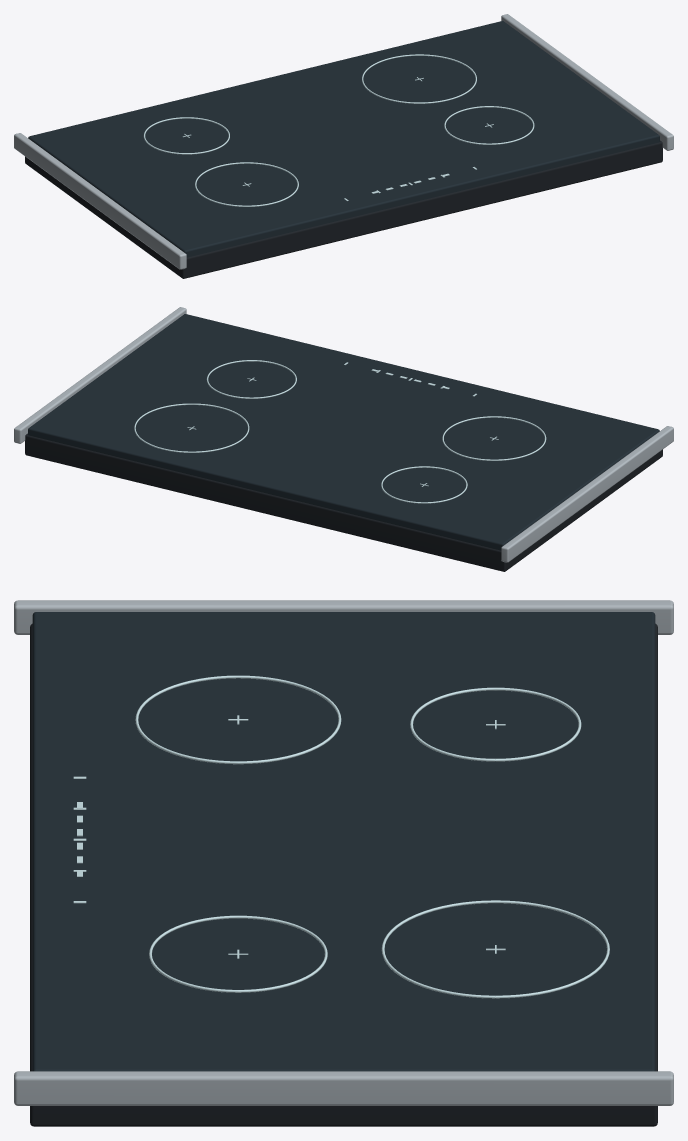
File: luxury-induction-cooktop-36.glb
3 views of the same model, one above another, from view 1: azimuth 30°, elevation 25°; view 2: azimuth 150°, elevation 25°; view 3: azimuth 270°, elevation 25° (orthographic). The views are drawn at different scales.
Parts seen in each view (by area): view 1: luxury-induction-cooktop-36; view 2: luxury-induction-cooktop-36; view 3: luxury-induction-cooktop-36.
Part boxes in pixels (x1,y1,x2,y2): luxury-induction-cooktop-36: (14, 14, 673, 278); luxury-induction-cooktop-36: (14, 307, 673, 571); luxury-induction-cooktop-36: (14, 600, 673, 1126).
Bounding box in the file's own units: 0.914 × 0.051 × 0.533.
